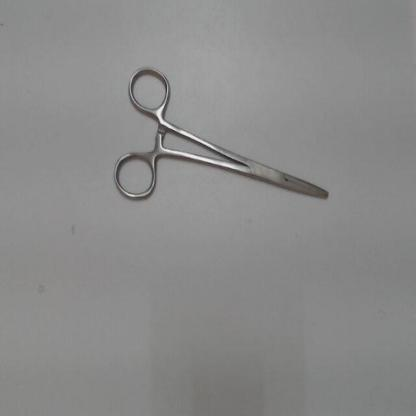Mayo Needle Holder: (107, 58, 341, 212)
